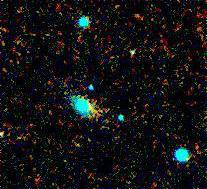star: (66, 128, 96, 158)
